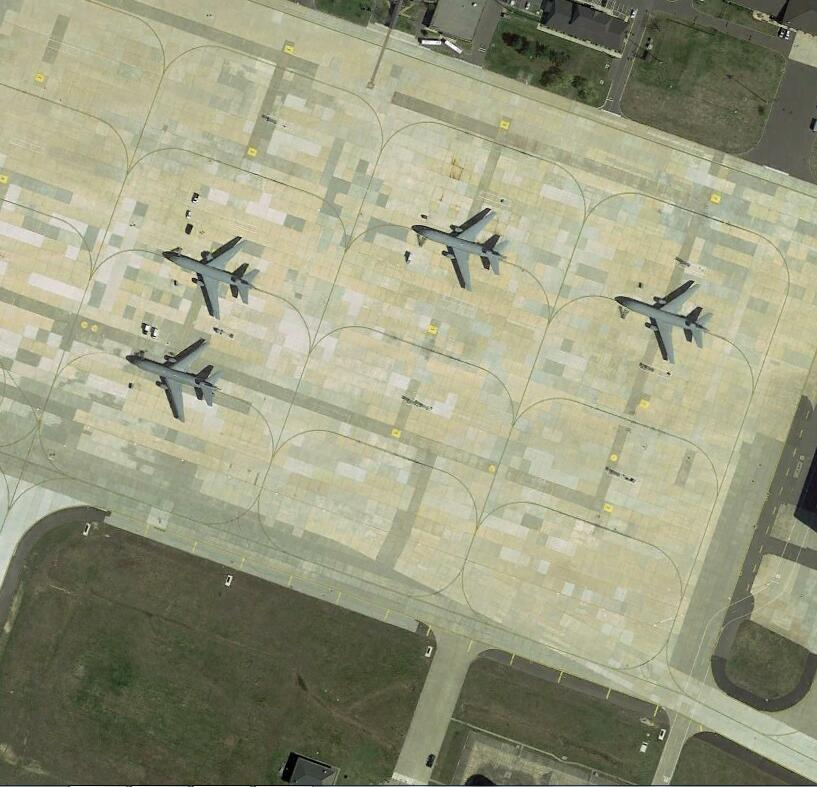A18: (412, 204, 514, 296), (617, 277, 717, 366), (124, 339, 227, 424), (161, 237, 264, 321)
